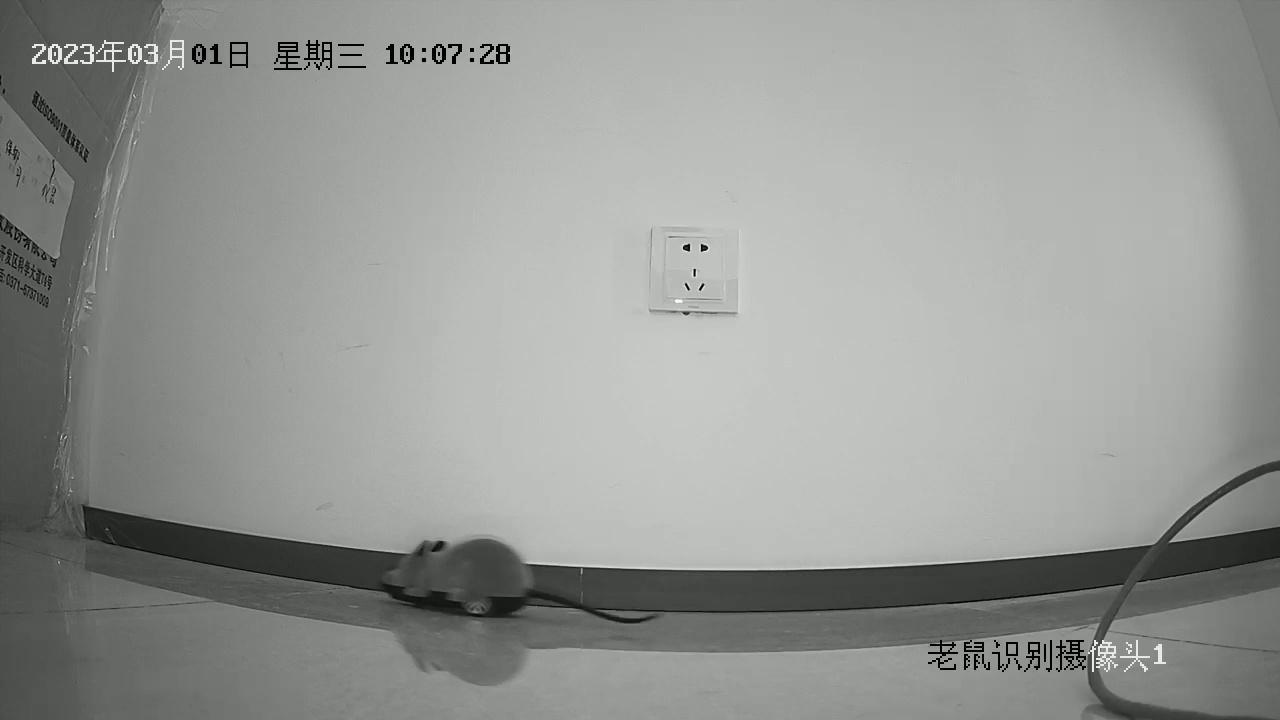rat: (380, 538, 643, 624)
